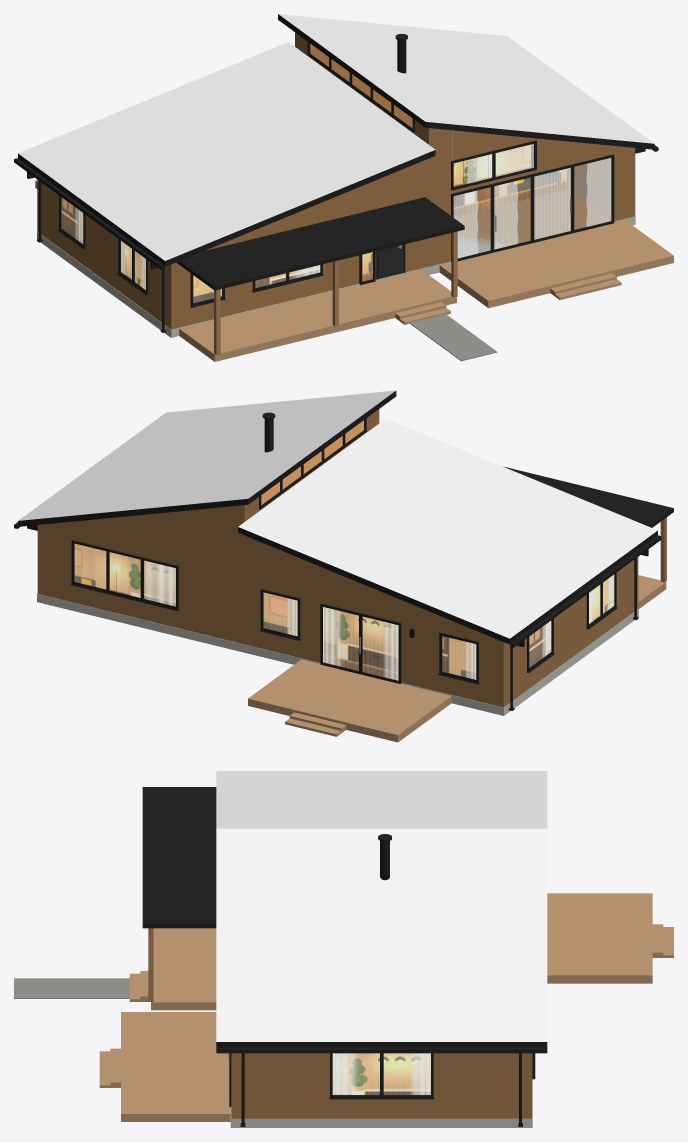
File: sume162_c0_p0_m0.glb
3 views of the same model, one above another, from view 1: azimuth 30°, elevation 25°; view 2: azimuth 150°, elevation 25°; view 3: azimuth 270°, elevation 25° (orthographic). The views are drawn at different scales.
Parts seen in each view (by area): view 1: roof, wall, deck, fascia, glass, veil, room, soffit, frame, plinth, paving, interior_side (+2 smaller); view 2: roof, wall, glass, room, deck, fascia, frame, sheer, plinth; view 3: roof, deck, fascia, wall, glass, room, plinth, paving, sheer, frame.
Part boxes in pixels (bbox=[...]): roof: bbox=[18, 14, 654, 260]; wall: bbox=[37, 32, 635, 329]; deck: bbox=[35, 180, 673, 361]; fascia: bbox=[14, 14, 658, 332]; glass: bbox=[61, 44, 610, 302]; veil: bbox=[454, 144, 610, 258]; room: bbox=[61, 44, 566, 303]; soffit: bbox=[214, 190, 609, 355]; frame: bbox=[57, 42, 614, 307]; plinth: bbox=[37, 216, 635, 337]; paving: bbox=[410, 314, 497, 361]; interior_side: bbox=[452, 130, 610, 220]; roof: bbox=[18, 390, 657, 638]; wall: bbox=[37, 409, 638, 707]; glass: bbox=[75, 421, 613, 679]; room: bbox=[74, 420, 613, 679]; deck: bbox=[248, 575, 666, 742]; fascia: bbox=[14, 391, 673, 710]; frame: bbox=[70, 418, 617, 684]; sheer: bbox=[144, 560, 614, 680]; plinth: bbox=[37, 593, 638, 715]; roof: bbox=[216, 771, 547, 1041]; deck: bbox=[99, 893, 673, 1121]; fascia: bbox=[142, 787, 547, 1126]; wall: bbox=[231, 1053, 532, 1118]; glass: bbox=[333, 1054, 430, 1094]; room: bbox=[334, 1053, 430, 1094]; plinth: bbox=[230, 1079, 532, 1127]; paving: bbox=[14, 978, 129, 998]; sheer: bbox=[332, 1053, 430, 1094]; frame: bbox=[229, 1053, 535, 1107].
Bounding box in the file's own units: 19.3 × 6.61 × 19.74.
Materials: 18 (7 with a texture image).
